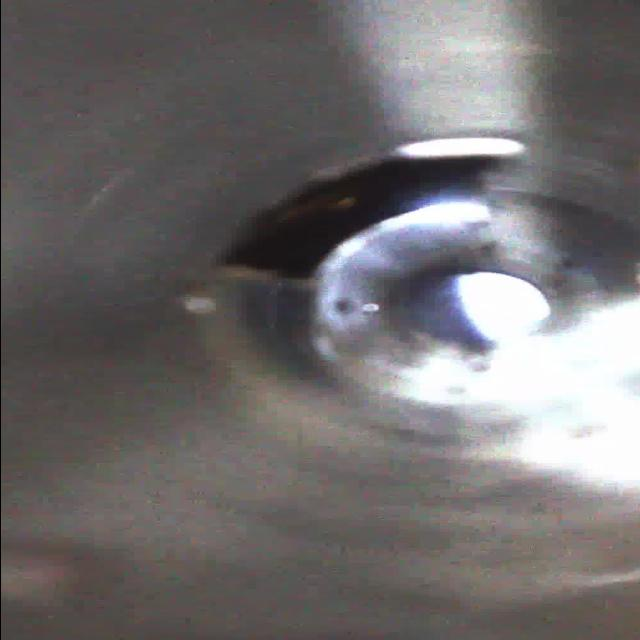hole: (209, 125, 532, 289)
